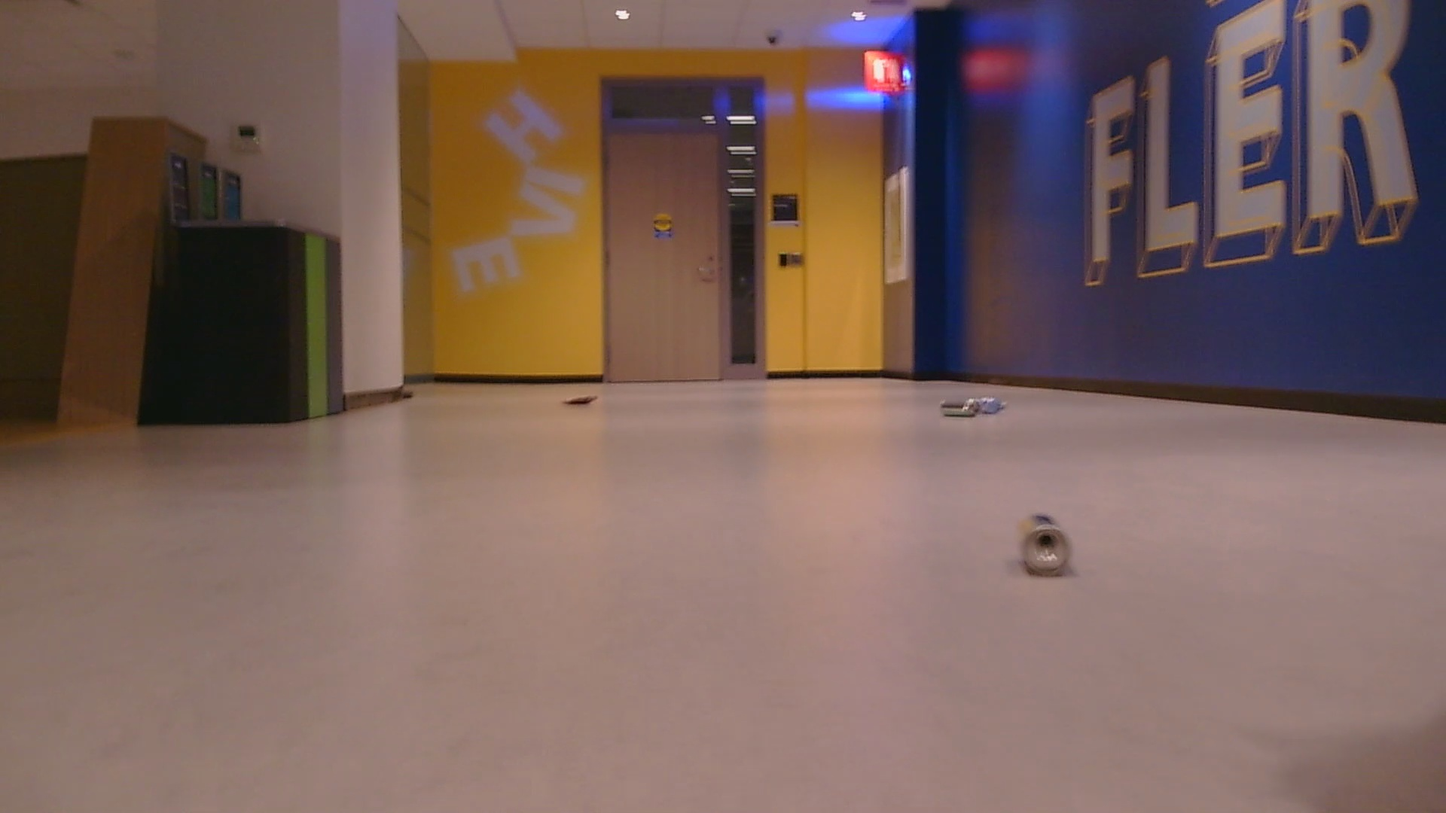can: (1019, 514, 1075, 577), (937, 391, 1010, 419), (559, 394, 600, 408)
